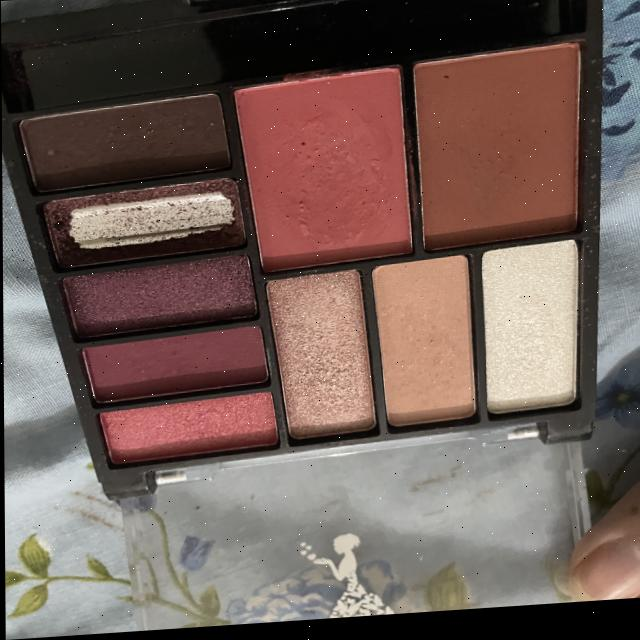eye shade: (227, 71, 418, 271), (406, 44, 586, 252), (6, 96, 236, 200), (365, 259, 490, 438), (258, 273, 385, 448), (52, 257, 269, 341), (480, 247, 575, 422), (67, 330, 287, 405), (89, 391, 278, 461)
